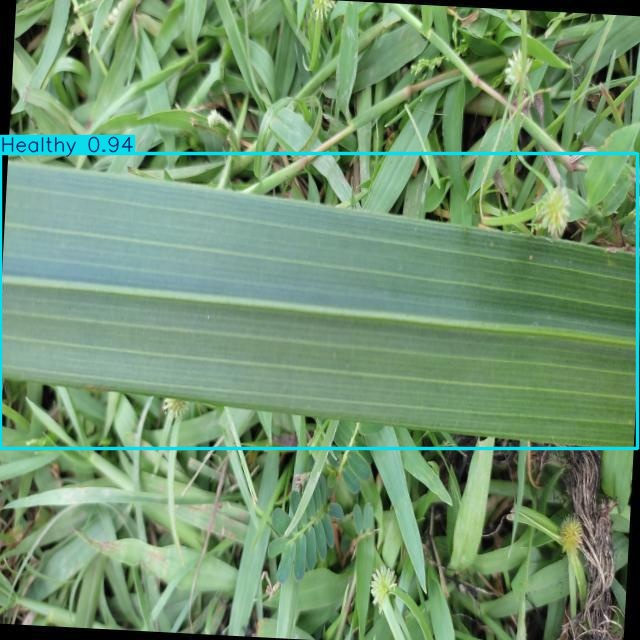Healthy: (1, 154, 638, 448)
